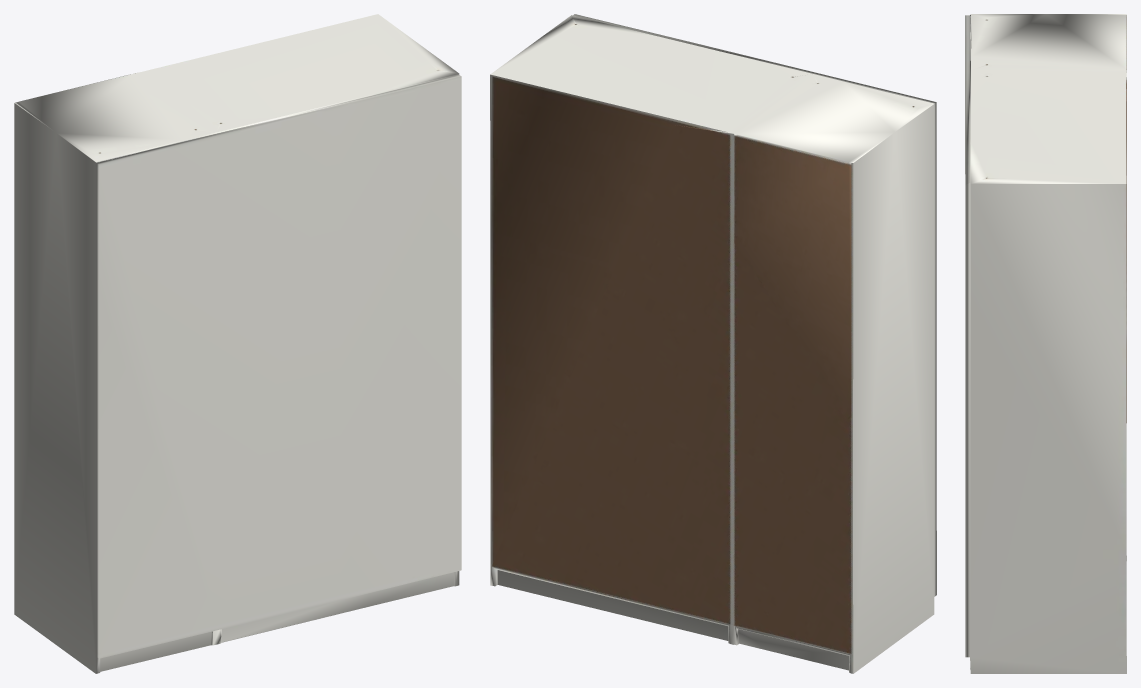
3 views of the same model, side by side, from view 1: azimuth 30°, elevation 25°; view 2: azimuth 150°, elevation 25°; view 3: azimuth 270°, elevation 25° (orthographic). The views are drawn at different scales.
Visible parts, largest first — view 1: ProcessedMeshNode; view 2: ProcessedMeshNode; view 3: ProcessedMeshNode.
Boxes of the visible parts, x1,y1,x2,y2 form: ProcessedMeshNode: (14, 14, 461, 673); ProcessedMeshNode: (490, 14, 936, 673); ProcessedMeshNode: (965, 14, 1126, 673).
Bounding box in the file's own units: 1.5 × 2.01 × 0.6024.
Materials: 1 (1 with a texture image).
